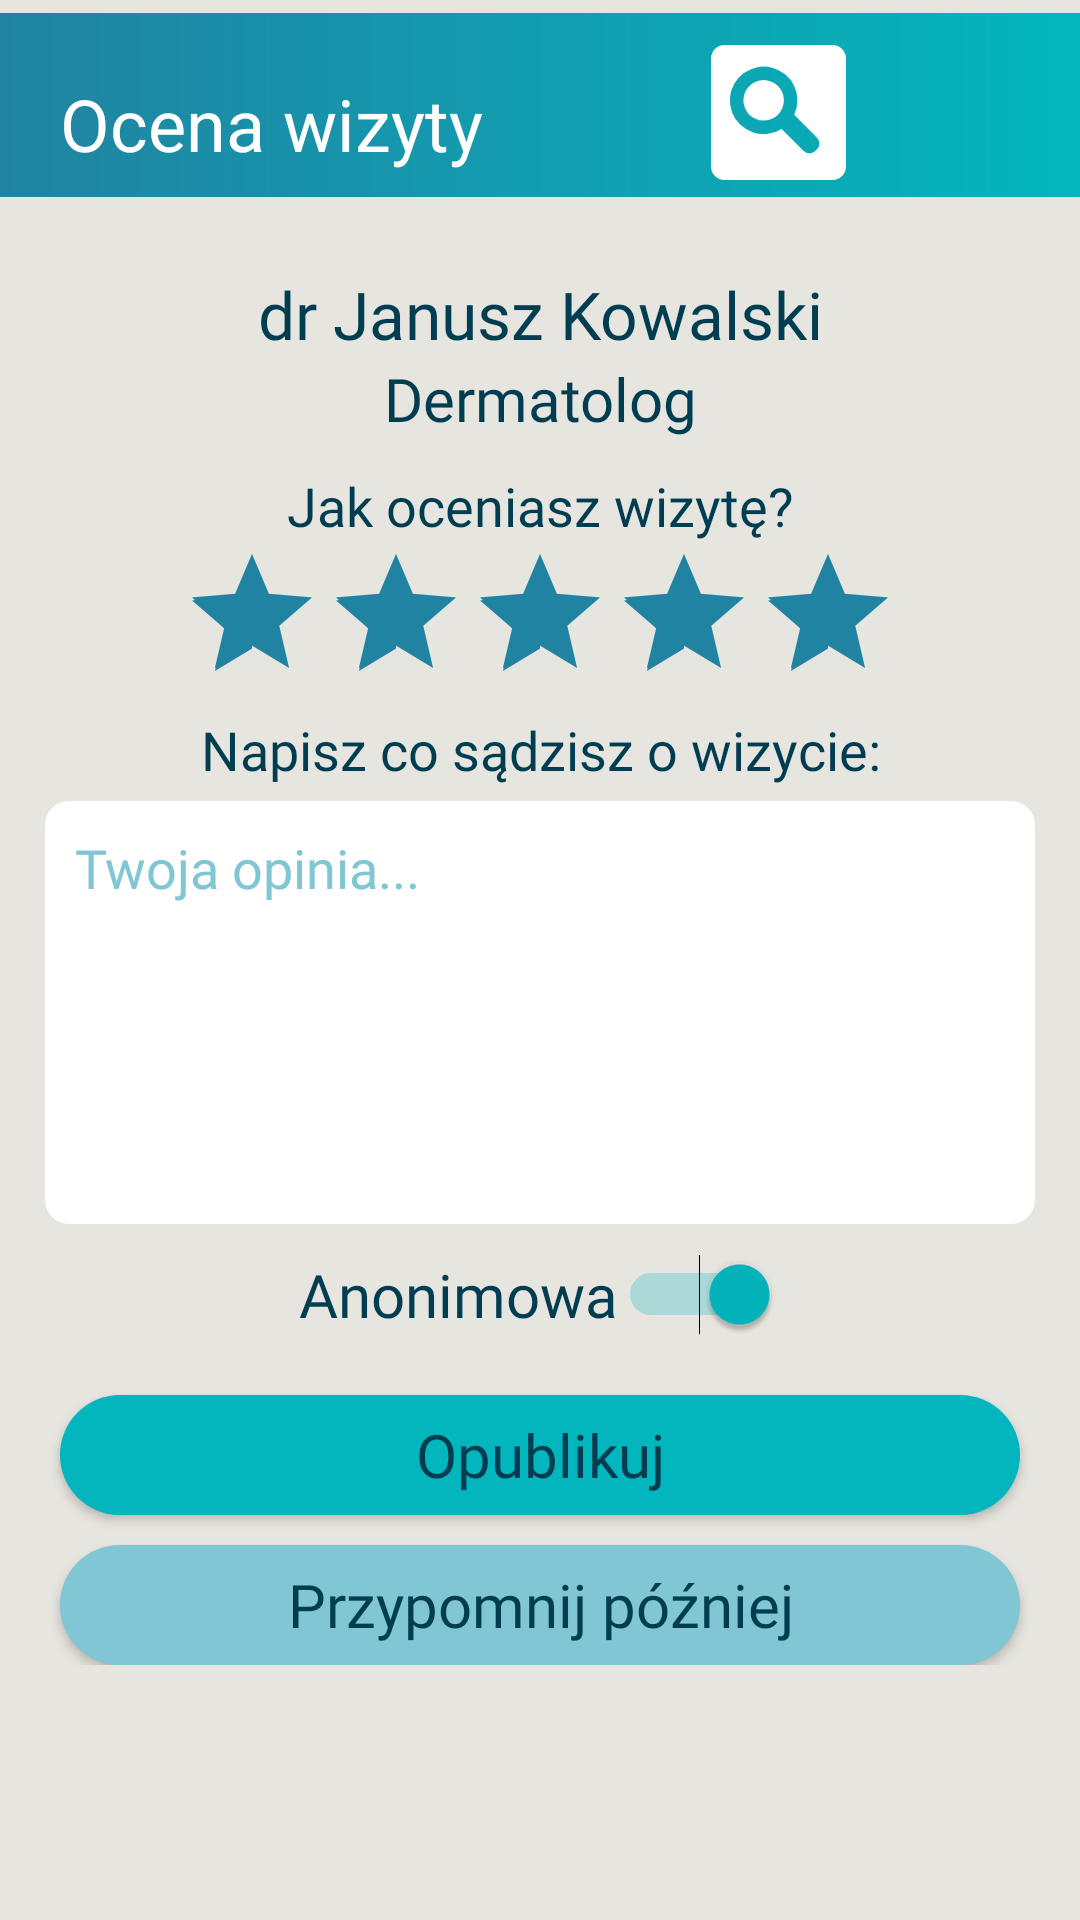

Point at icon controls on the screen. Image size 1080px×1920px, points as (x=x, y=y).
wyszukiwanie: (x=778, y=112)
